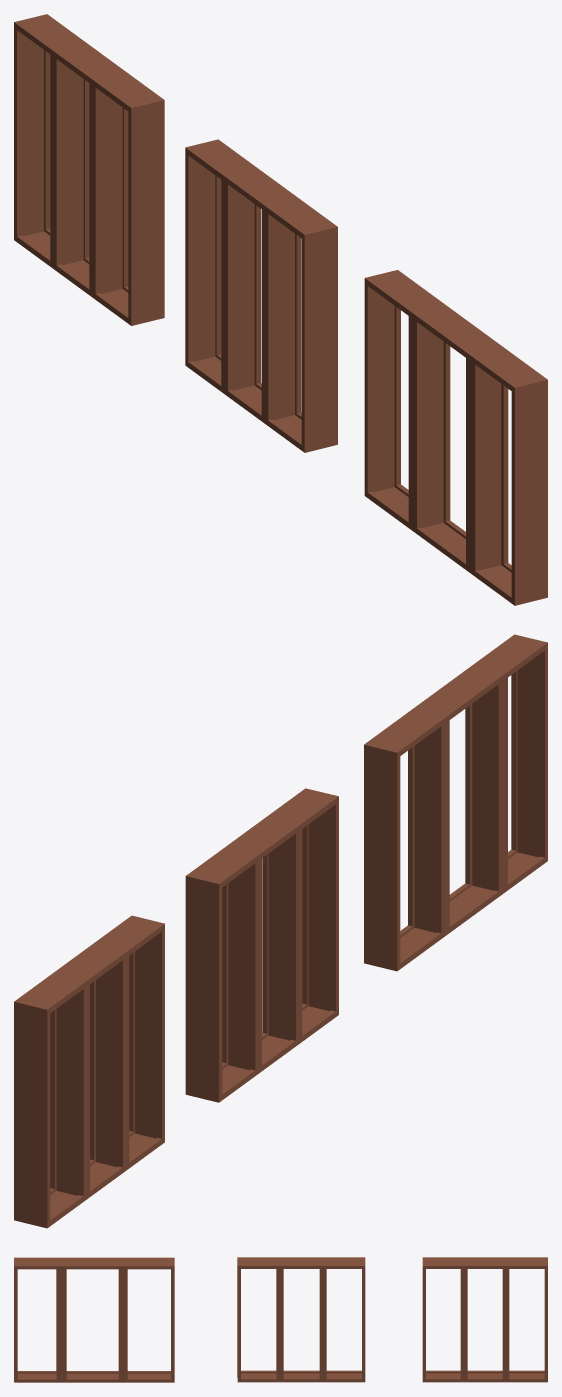
File: window.glb
3 views of the same model, one above another, from view 1: azimuth 30°, elevation 25°; view 2: azimuth 150°, elevation 25°; view 3: azimuth 270°, elevation 25° (orthographic). The views are drawn at different scales.
Parts seen in each view (by area): view 1: Cube.012, Cube.011, Cube.010; view 2: Cube.012, Cube.011, Cube.010; view 3: Cube.012, Cube.011, Cube.010.
Boxes of the visible parts, <box> form: Cube.012: <box>364,270,547,605</box>; Cube.011: <box>185,139,337,452</box>; Cube.010: <box>14,14,164,325</box>; Cube.012: <box>364,634,547,971</box>; Cube.011: <box>185,788,338,1102</box>; Cube.010: <box>14,915,164,1228</box>; Cube.012: <box>14,1257,174,1382</box>; Cube.011: <box>237,1257,365,1382</box>; Cube.010: <box>422,1257,547,1382</box>.
Bounding box in the file's own units: 23.71 × 145 × 601.
